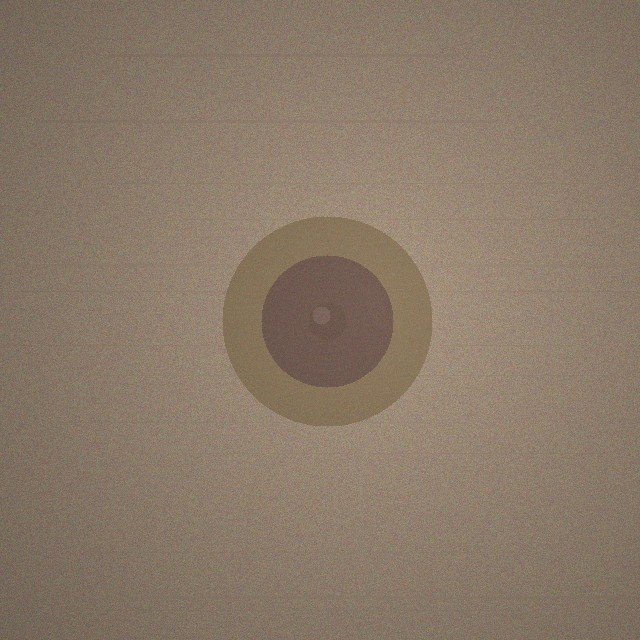good: (222, 216, 432, 426)
